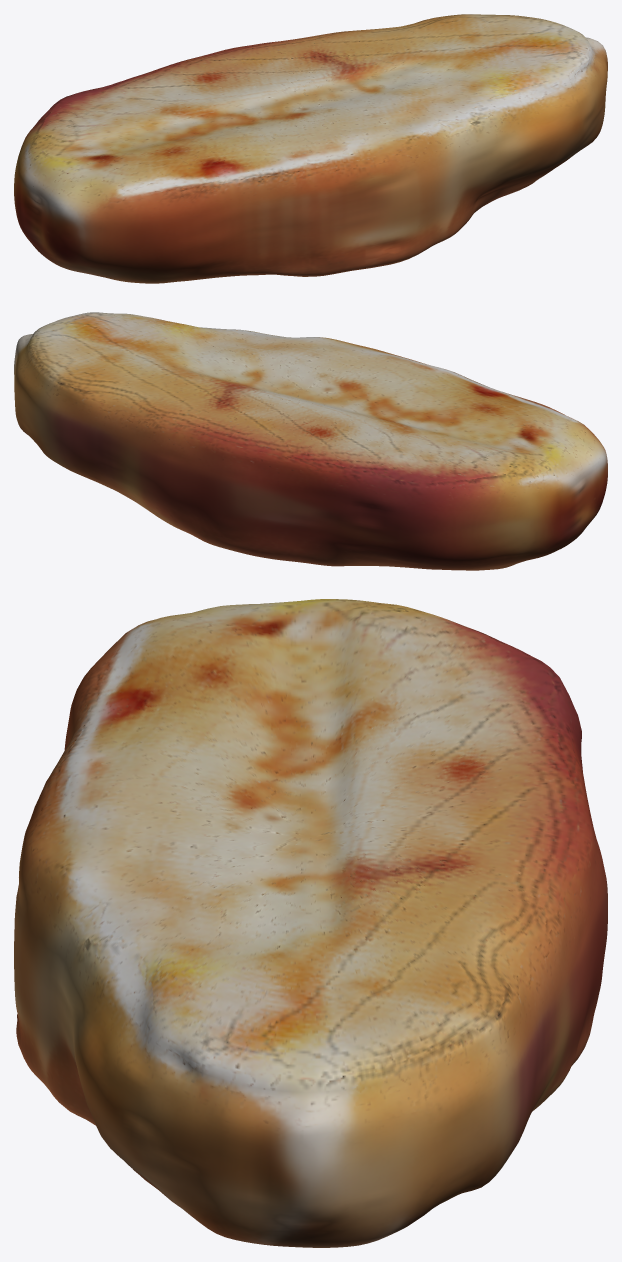
The model's file is sandwich.glb.
The picture shows the model from 3 angles, top to bottom: view 1: azimuth 30°, elevation 25°; view 2: azimuth 150°, elevation 25°; view 3: azimuth 270°, elevation 25°; orthographic projection. The views are drawn at different scales.
Visible parts, largest first — view 1: G18 display surface; view 2: G18 display surface; view 3: G18 display surface.
Boxes of the visible parts, x1,y1,x2,y2 form: G18 display surface: (14,14,607,283); G18 display surface: (14,312,607,570); G18 display surface: (14,599,607,1247).
Bounding box in the file's own units: 1.94 × 0.4172 × 0.9296.
Materials: 1 (1 with a texture image).
